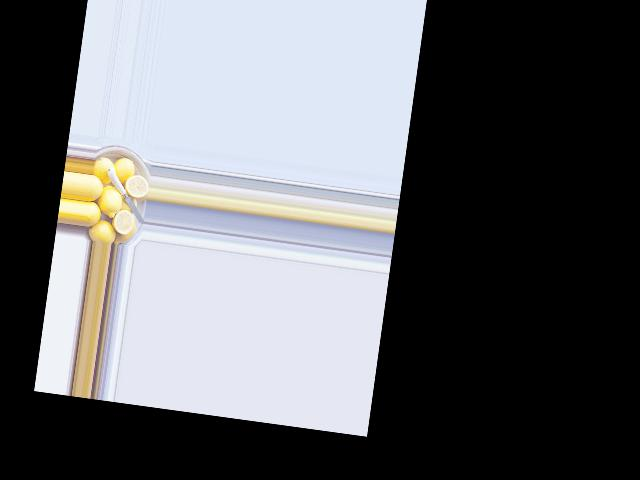lemon: (87, 216, 120, 244)
